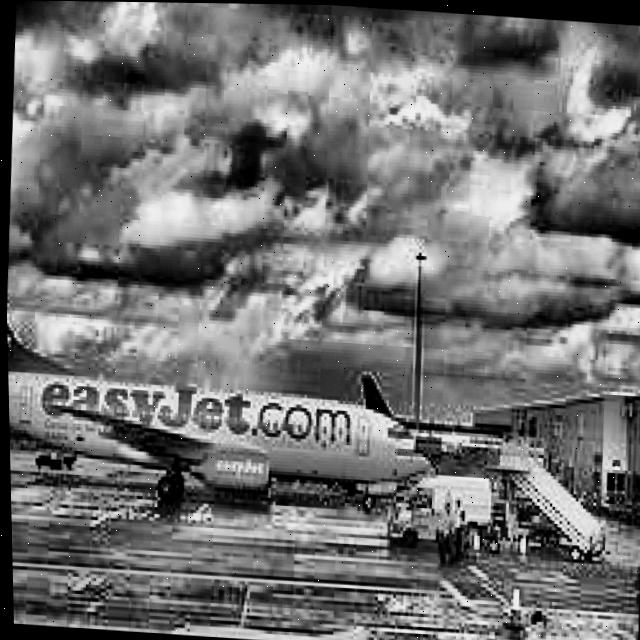light_vehicle: (381, 457, 494, 549)
